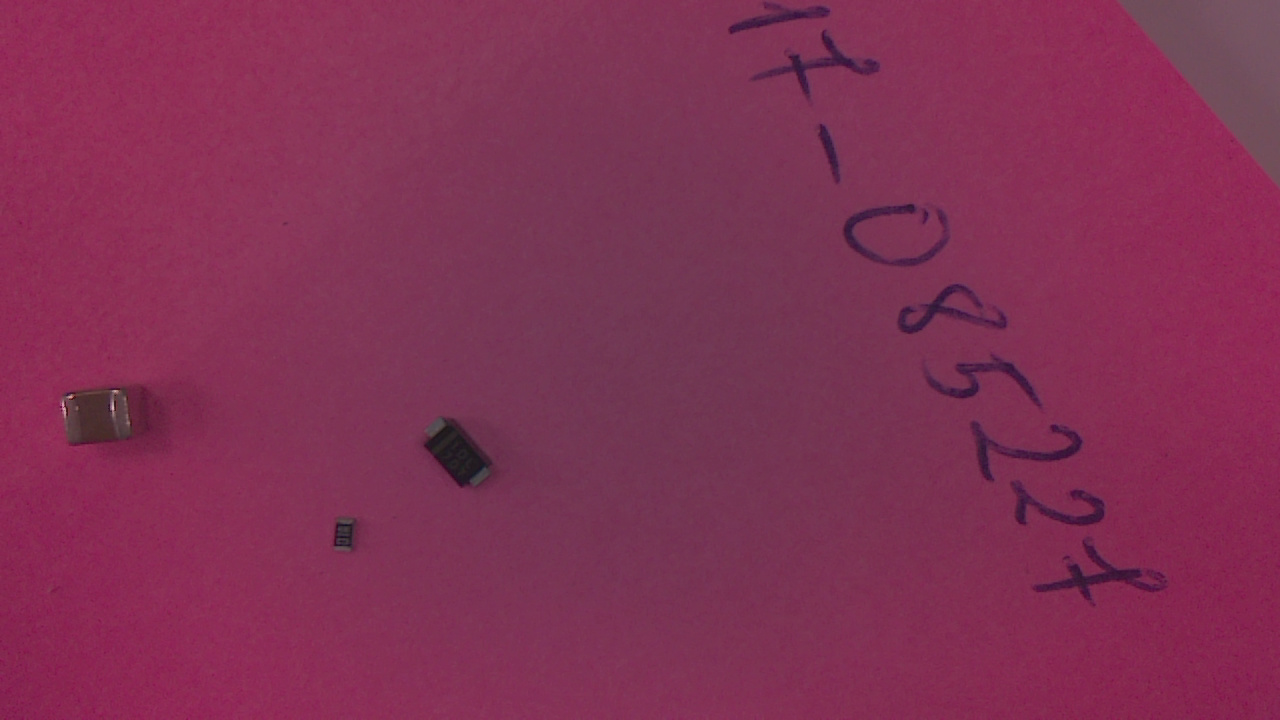Condensator: (66, 389, 146, 456)
Diode: (426, 420, 501, 495)
Resistor: (328, 519, 369, 557)
